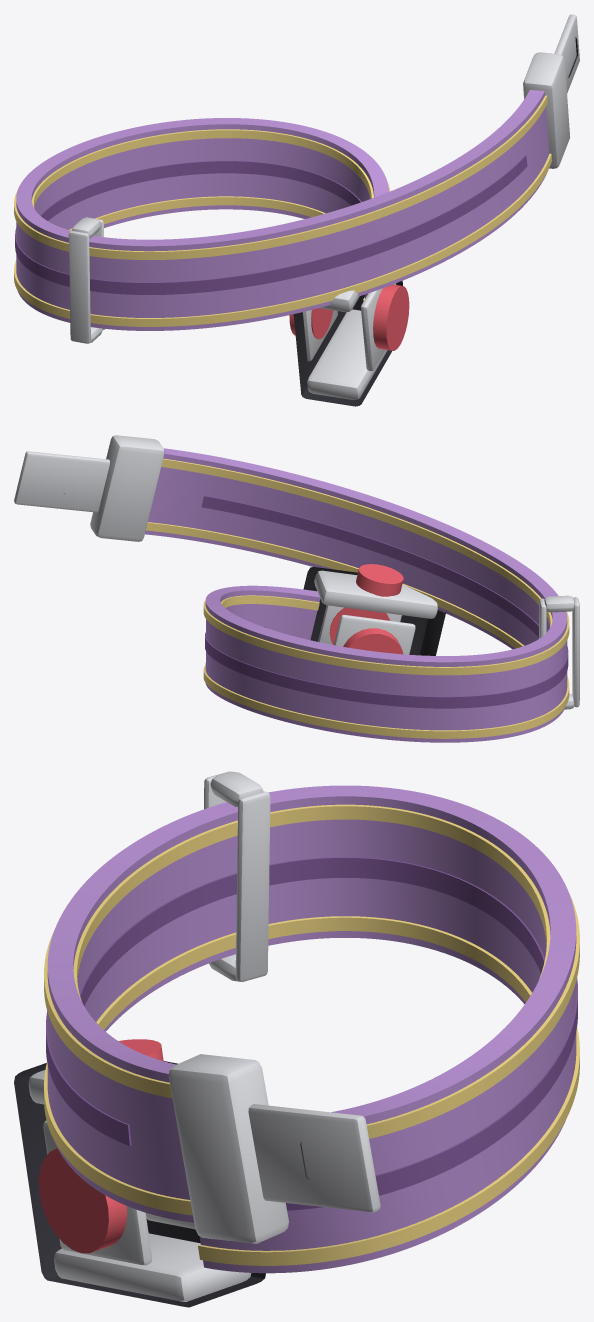
The model's file is ITEM_Seatbelt.fbx.
3 renders of one model, top to bottom at view 1: azimuth 30°, elevation 25°; view 2: azimuth 150°, elevation 25°; view 3: azimuth 270°, elevation 25°, orthographic. The views are drawn at different scales.
Parts seen in each view (by area): view 1: ITEM_Seatbelt; view 2: ITEM_Seatbelt; view 3: ITEM_Seatbelt.
Boxes of the visible parts, left/top/right/bottom form: ITEM_Seatbelt: left=14, top=14, right=579, bottom=406; ITEM_Seatbelt: left=14, top=435, right=579, bottom=742; ITEM_Seatbelt: left=14, top=771, right=579, bottom=1307.
Size of the model in its own units: 0.5884 by 0.251 by 0.3082.
